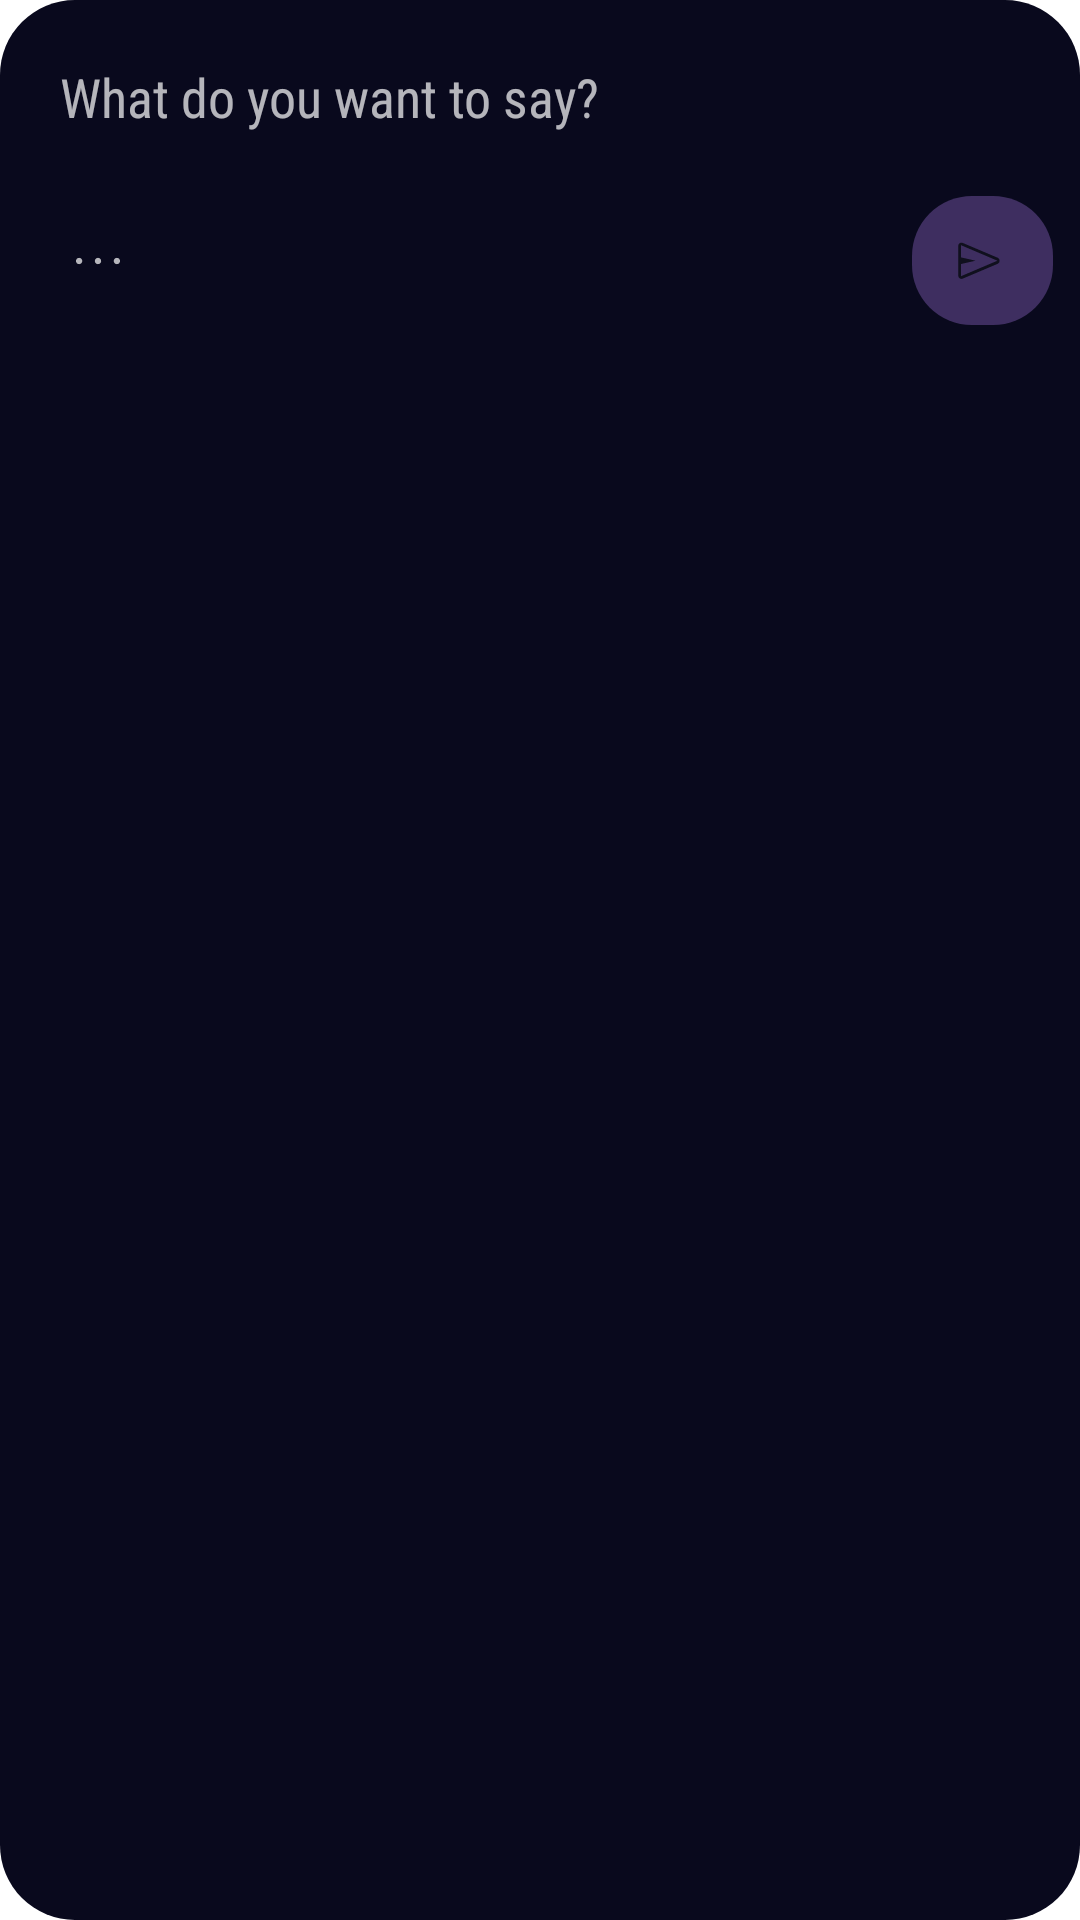

Screen size 1080 x 1920. Icon name, then its box in pixels as (x1, y1, x2, y2):
send: (912, 196, 1053, 325)
